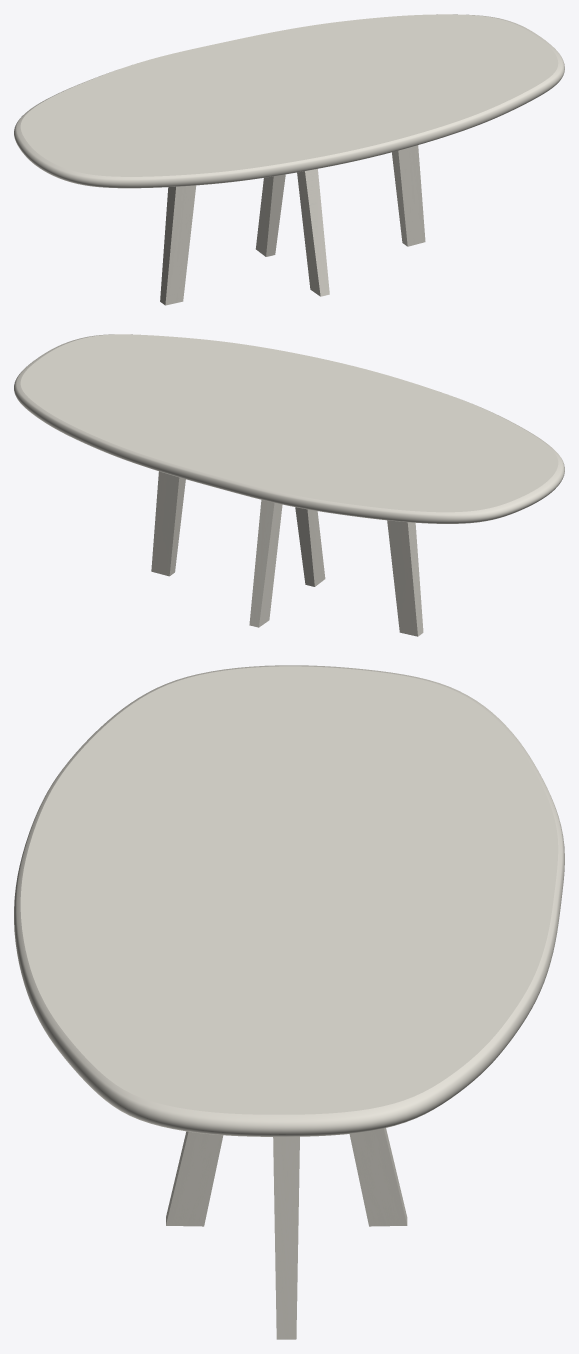
Rendered from pale_danish_round_searwalnut.glb.
3 views of the same model, one above another, from view 1: azimuth 30°, elevation 25°; view 2: azimuth 150°, elevation 25°; view 3: azimuth 270°, elevation 25° (orthographic). The views are drawn at different scales.
Visible parts, largest first — view 1: round_danish, searwalnut; view 2: round_danish, searwalnut; view 3: round_danish, searwalnut.
Part boxes in pixels (x1,y1,x2,y2): round_danish: [14, 14, 564, 188]; searwalnut: [160, 145, 425, 305]; round_danish: [14, 334, 564, 523]; searwalnut: [151, 471, 423, 636]; round_danish: [14, 665, 564, 1136]; searwalnut: [166, 1128, 407, 1339].
Size of the model in its own units: 7.5 by 2.5 by 3.8.
1 material, 1 textured.
